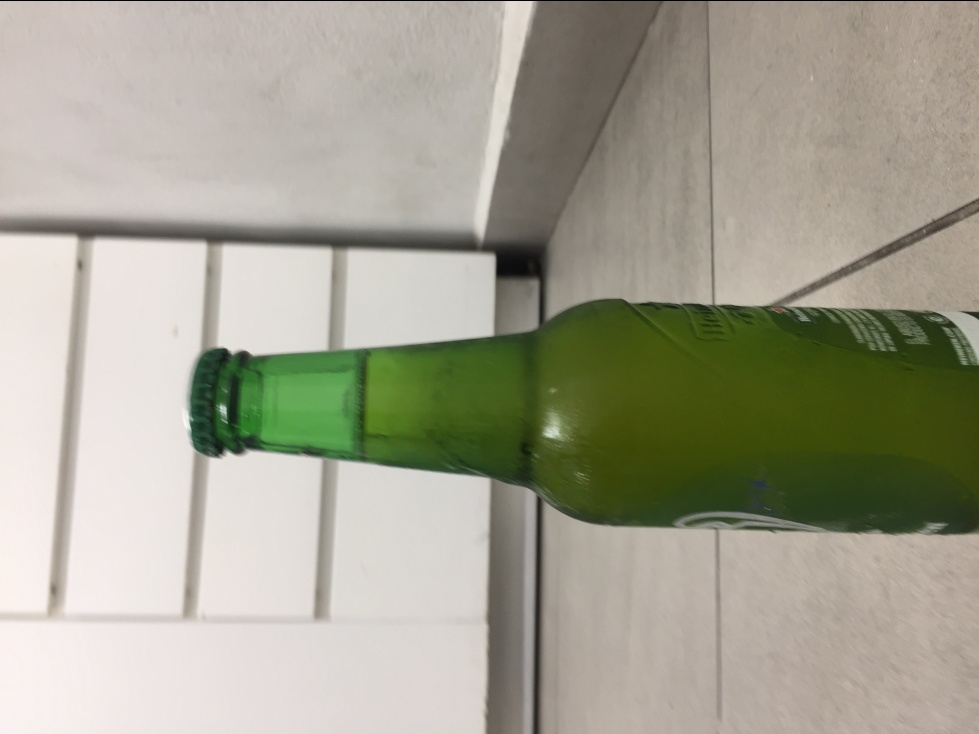heineken: (183, 294, 979, 537)
